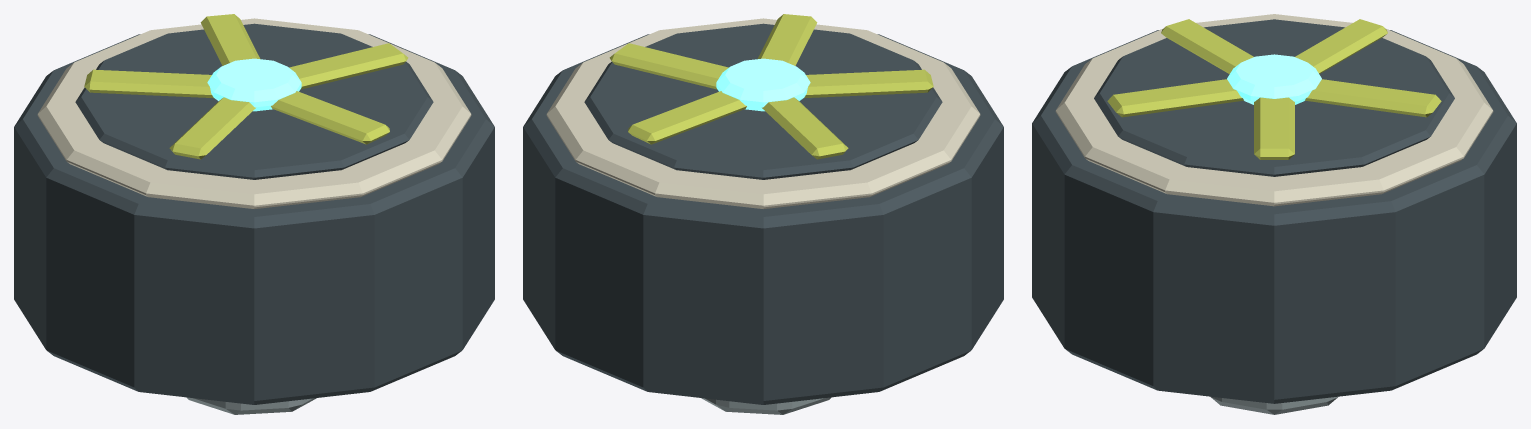
The model's file is blower.glb.
3 views of the same model, side by side, from view 1: azimuth 30°, elevation 25°; view 2: azimuth 150°, elevation 25°; view 3: azimuth 270°, elevation 25° (orthographic).
Visible parts, largest first — view 1: blower_Mesh; view 2: blower_Mesh; view 3: blower_Mesh.
Part boxes in pixels (x1,y1,x2,y2): blower_Mesh: (14, 14, 494, 414); blower_Mesh: (523, 14, 1003, 414); blower_Mesh: (1032, 14, 1516, 414).
Size of the model in its own units: 0.51 by 0.362 by 0.51.
